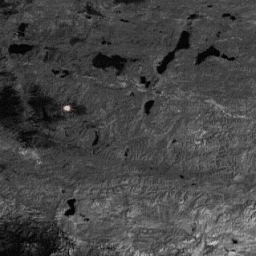Target: (62, 103, 71, 112)
